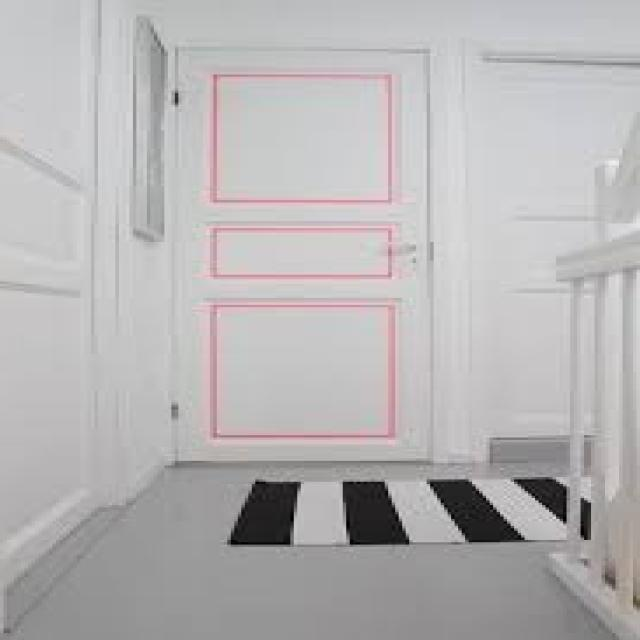door: (171, 45, 434, 462)
